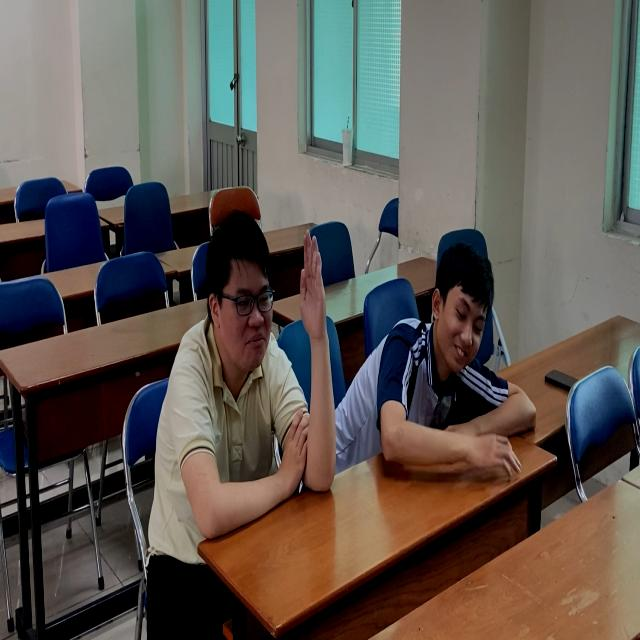raise_hand: (151, 199, 345, 554)
